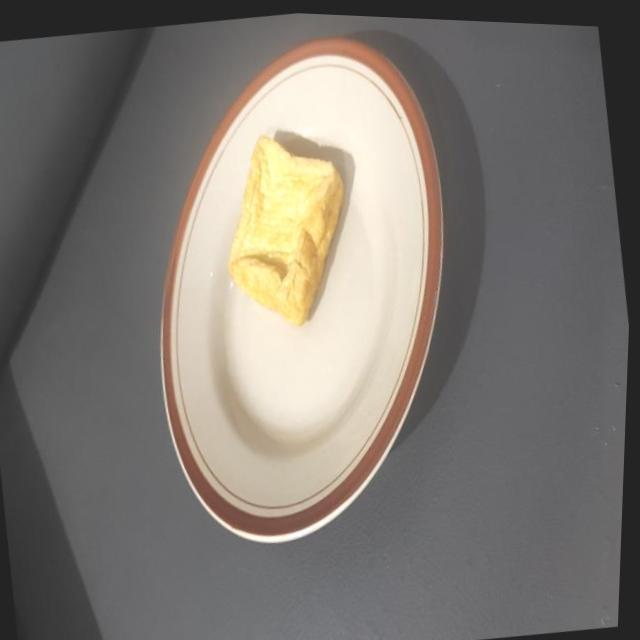tahu_goreng: (228, 137, 344, 326)
